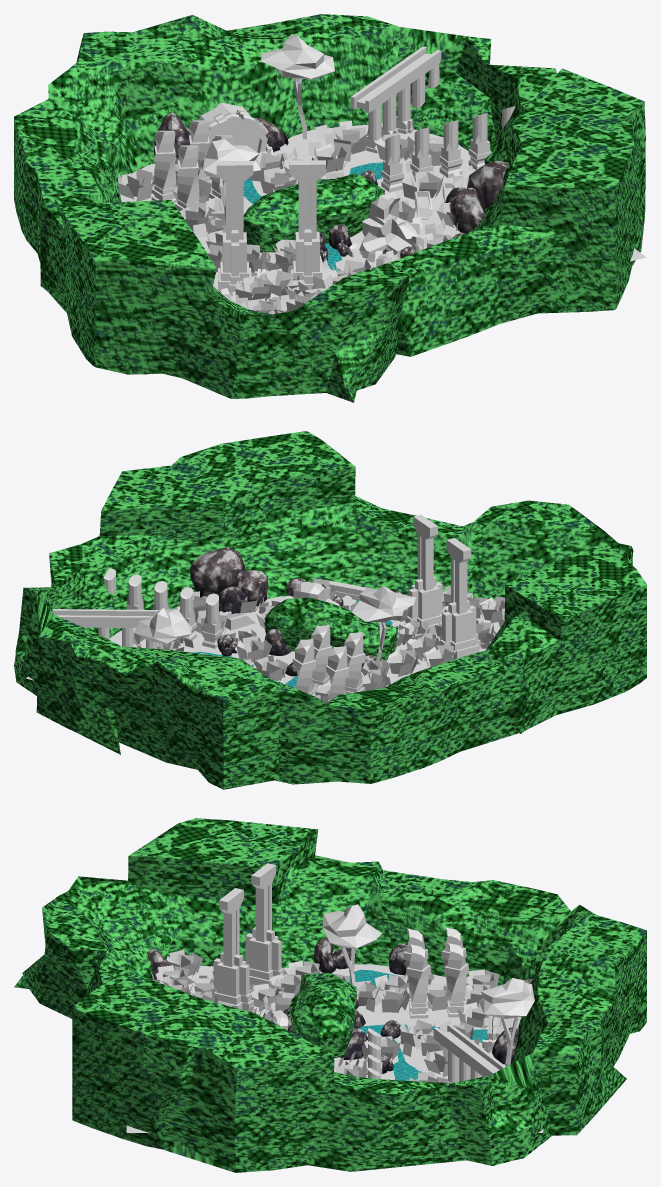
File: garden_of_eden_2.fbx
3 renders of one model, top to bottom at view 1: azimuth 30°, elevation 25°; view 2: azimuth 150°, elevation 25°; view 3: azimuth 270°, elevation 25°, orthographic. The views are drawn at different scales.
Parts seen in each view (by area): view 1: large foliage, ruins, ground, Mball.006, Mball.005, rock.015, rock.008, grass.031, water, grass.013, grass.037, grass.038 (+5 smaller); view 2: large foliage, ruins, ground, rock.015, Mball.005, Mball.006, rock.008, grass.011, grass.005, rock.016, grass.026, grass.004 (+2 smaller); view 3: large foliage, ruins, ground, Mball.005, Mball.006, water, grass.008, rock.018, grass.020, grass.012, grass.019, grass.029 (+4 smaller).
Part boxes in pixels (x1,y1,x2,y2): large foliage: [14, 14, 645, 402]; ruins: [151, 46, 515, 295]; ground: [119, 123, 646, 309]; Mball.006: [260, 34, 334, 79]; Mball.005: [200, 139, 261, 178]; rock.015: [467, 160, 508, 208]; rock.008: [450, 187, 485, 233]; grass.031: [117, 168, 154, 201]; water: [243, 162, 382, 272]; grass.013: [402, 171, 443, 199]; grass.037: [314, 142, 351, 172]; grass.038: [332, 124, 368, 154]; large foliage: [14, 431, 646, 789]; ruins: [52, 514, 480, 702]; ground: [26, 594, 499, 688]; rock.015: [190, 547, 245, 597]; Mball.005: [350, 586, 415, 622]; Mball.006: [134, 608, 191, 643]; rock.008: [235, 570, 268, 606]; grass.011: [235, 636, 271, 661]; grass.005: [385, 649, 417, 676]; rock.016: [218, 586, 244, 613]; grass.026: [423, 645, 456, 667]; grass.004: [405, 633, 441, 660]; large foliage: [14, 818, 646, 1172]; ruins: [211, 863, 521, 1083]; ground: [126, 964, 543, 1132]; Mball.005: [322, 904, 381, 947]; Mball.006: [478, 978, 534, 1018]; water: [349, 969, 487, 1080]; grass.008: [372, 986, 410, 1012]; rock.018: [314, 937, 336, 972]; grass.020: [166, 949, 202, 976]; grass.012: [399, 1018, 434, 1046]; grass.019: [251, 983, 284, 1009]; grass.029: [426, 984, 449, 1010].
Size of the model in its own units: 7259 by 1782 by 7595.
